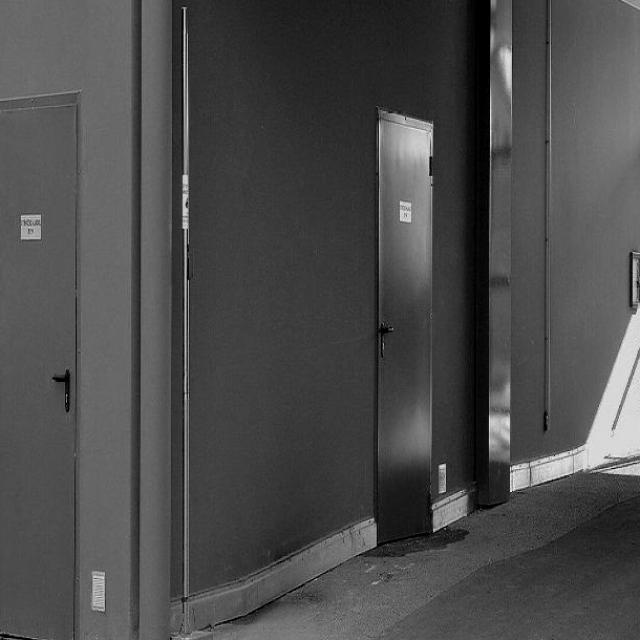door: (1, 91, 81, 640), (367, 100, 439, 538)
